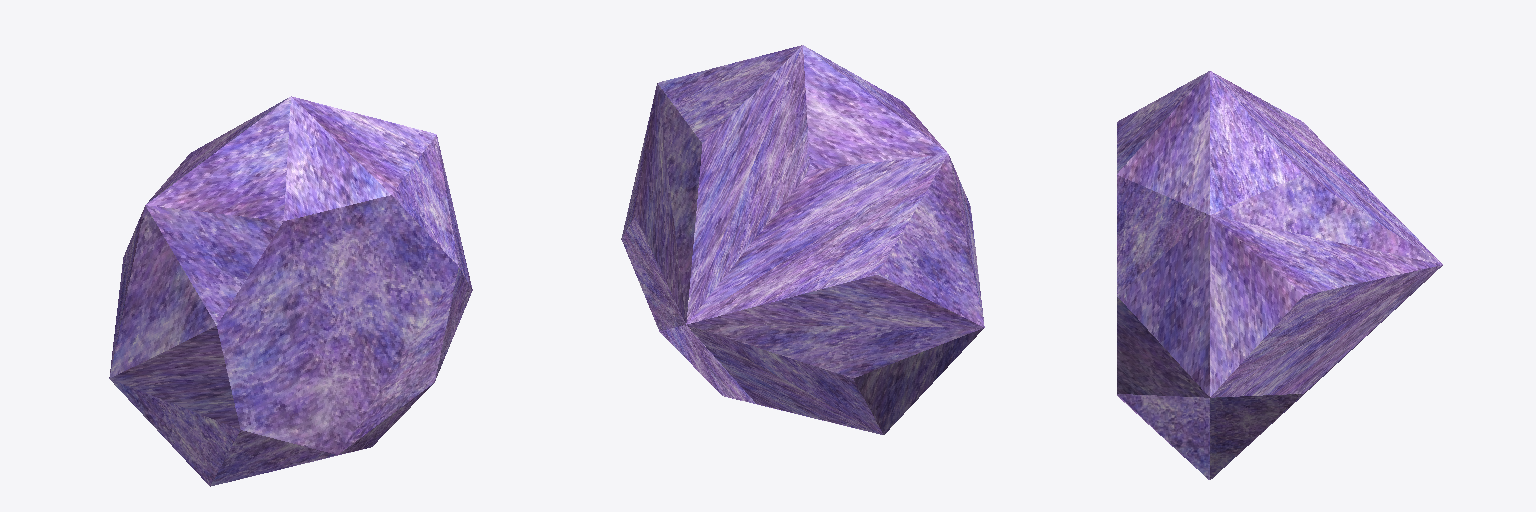
3 views of the same model, side by side, from view 1: azimuth 30°, elevation 25°; view 2: azimuth 150°, elevation 25°; view 3: azimuth 270°, elevation 25° (orthographic).
Size of the model in its own units: 2.25 by 2.19 by 1.75.
1 materials, 1 textured.